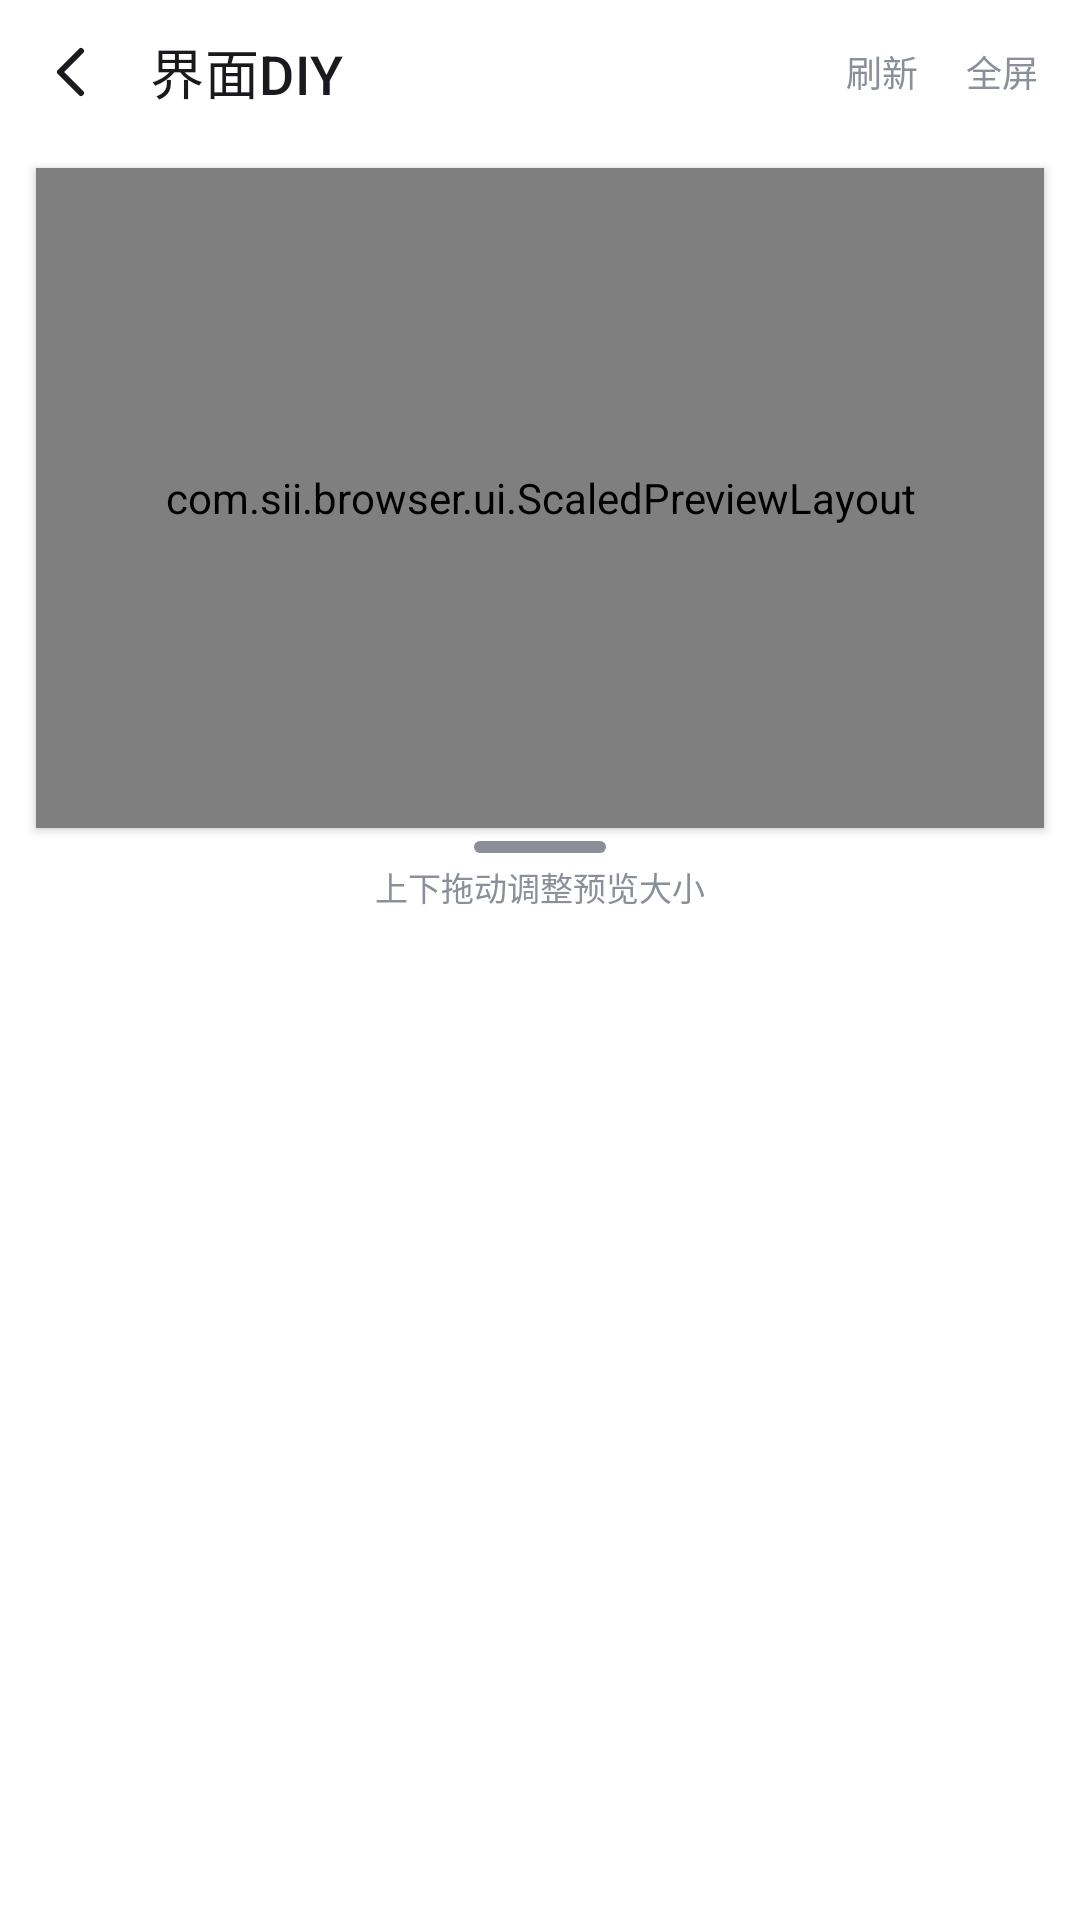

Where to tap for icons on this 1080 x 1920 app screen, as [x,y]:
后退: [70,72]
